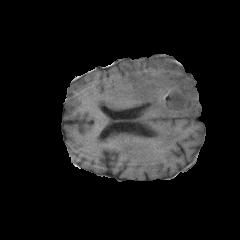glioma: (98, 60, 201, 142)
